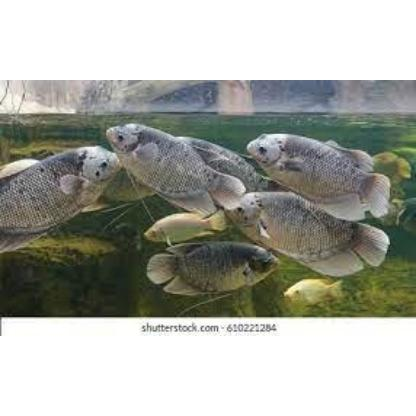gurame: (2, 142, 121, 252), (106, 120, 244, 210), (250, 130, 390, 216), (156, 238, 280, 296)
